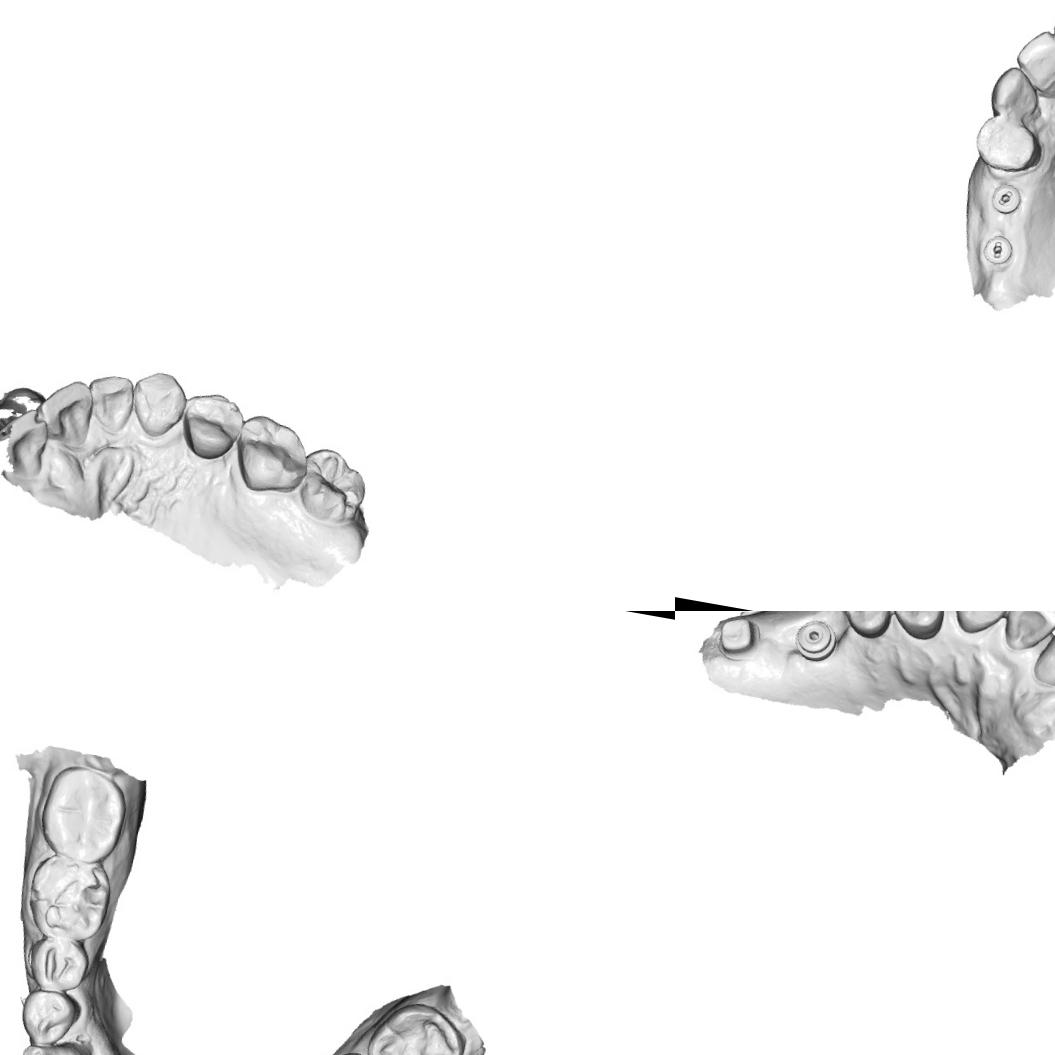abutment: (713, 611, 760, 660)
canine: (123, 365, 192, 444), (986, 62, 1045, 122), (945, 611, 1016, 640), (13, 1035, 88, 1055)
implant: (789, 617, 837, 664)
implant_minus: (988, 179, 1024, 216), (980, 232, 1016, 268)
incisor: (28, 371, 97, 452), (80, 368, 140, 438), (0, 406, 53, 482), (1009, 24, 1055, 98), (999, 611, 1055, 656), (1028, 611, 1055, 698)
molar: (31, 758, 132, 866), (19, 845, 119, 948), (227, 409, 316, 501), (294, 441, 376, 530), (356, 992, 470, 1055)
premolar: (173, 384, 246, 465), (18, 928, 93, 1000), (970, 113, 1048, 177), (15, 985, 82, 1052), (879, 611, 950, 644), (830, 611, 899, 640)
